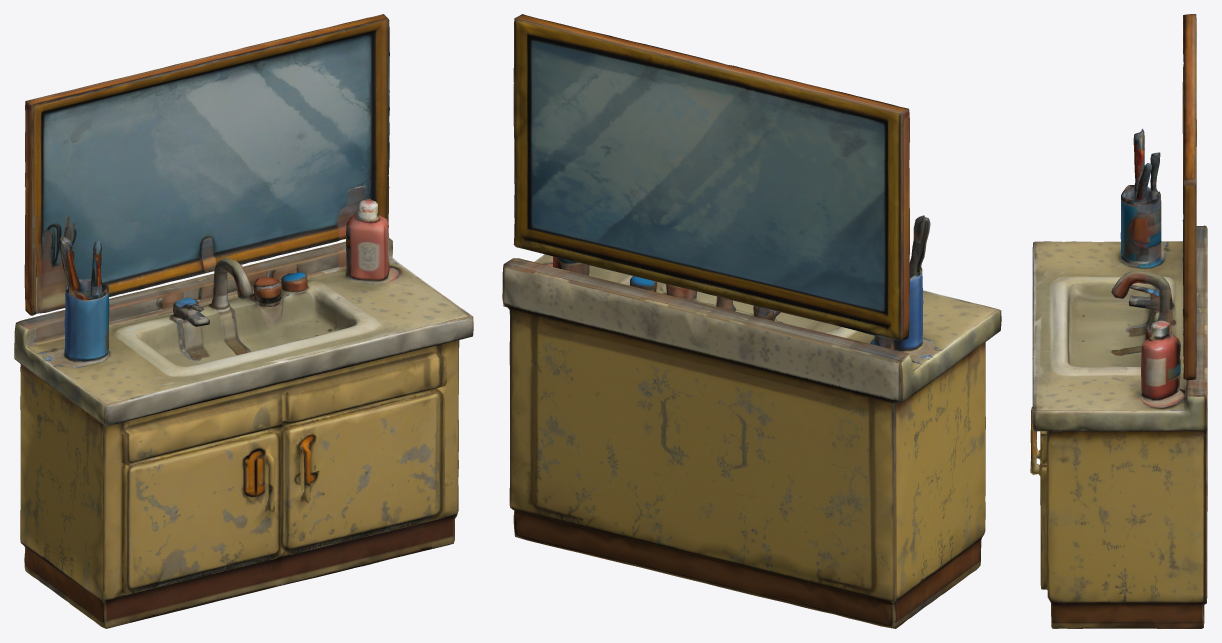
The model's file is Meshy_AI_Pia_banheiro_0124093607_texture.glb.
3 renders of one model, left to right at view 1: azimuth 30°, elevation 25°; view 2: azimuth 150°, elevation 25°; view 3: azimuth 270°, elevation 25°, orthographic. The views are drawn at different scales.
Size of the model in its own units: 1.64 by 2.01 by 0.7151.
Materials: 1 (1 with a texture image).
